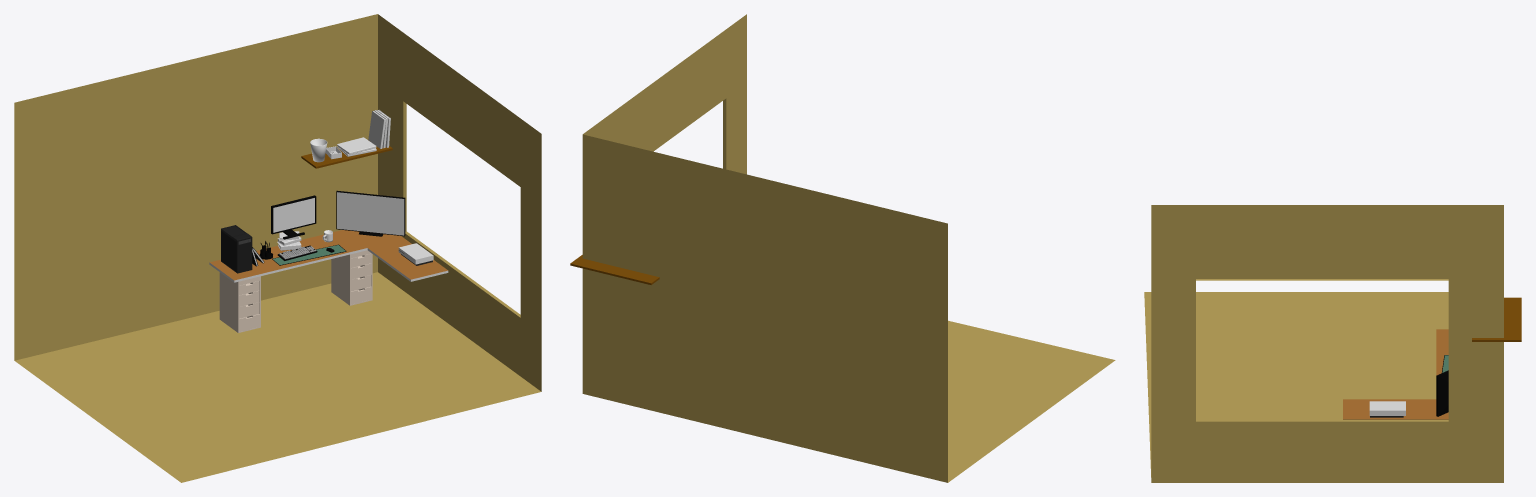
The model's file is room2.glb.
The picture shows the model from 3 angles, left to right: view 1: azimuth 30°, elevation 25°; view 2: azimuth 150°, elevation 25°; view 3: azimuth 270°, elevation 25°; orthographic projection. The views are drawn at different scales.
Visible parts, largest first — view 1: Wall, Table, TV, DrawersL, DrawerR, Computer Monitor, Computer, DnD Books; view 2: Wall; view 3: Wall, Table, Cube, TV.
Boxes of the visible parts, x1,y1,x2,y2 form: Wall: (14, 14, 541, 482); Table: (209, 230, 448, 282); TV: (336, 190, 405, 236); DrawersL: (219, 272, 260, 332); DrawerR: (331, 250, 372, 305); Computer Monitor: (271, 195, 316, 239); Computer: (221, 225, 252, 273); DnD Books: (337, 110, 390, 156); Wall: (570, 14, 1115, 482); Wall: (1144, 205, 1521, 482); Table: (1343, 329, 1448, 419); Cube: (1369, 401, 1405, 417); TV: (1436, 370, 1448, 416).
Bounding box in the file's own units: 6.85 × 4.6 × 5.66.
